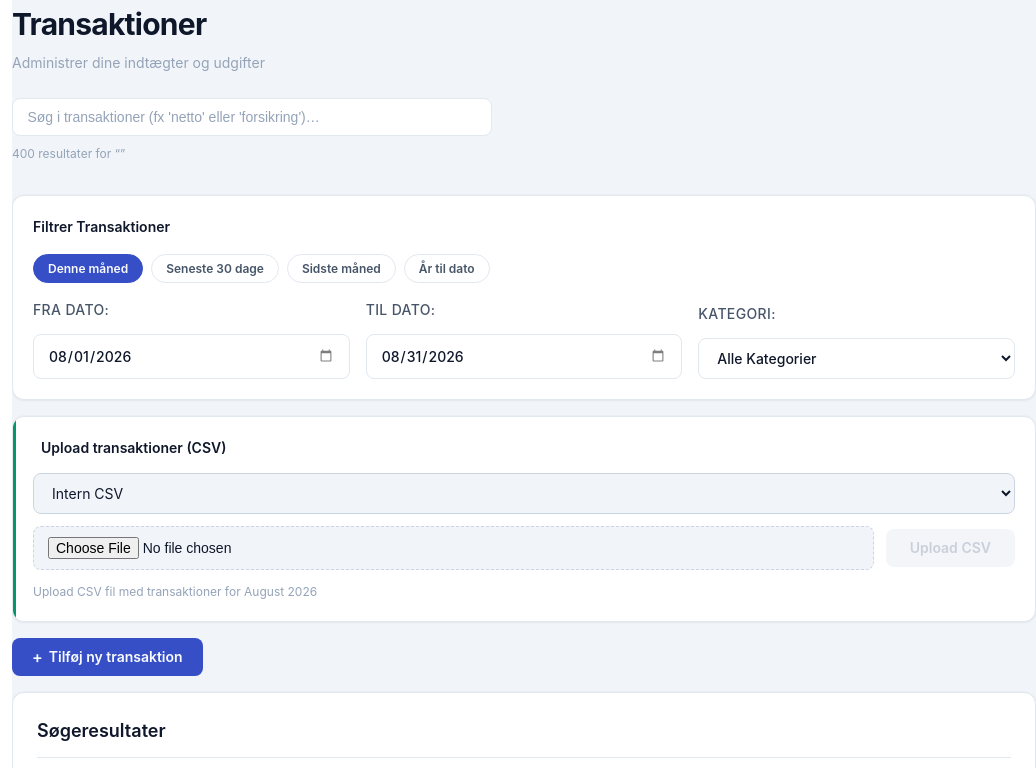
Test: TransactionsPage — søgning › statuslinjen melder kun totalen — intervallet hører i pageren
Type "netto" into the search field at x=252, y=117, box [12, 98, 492, 136]
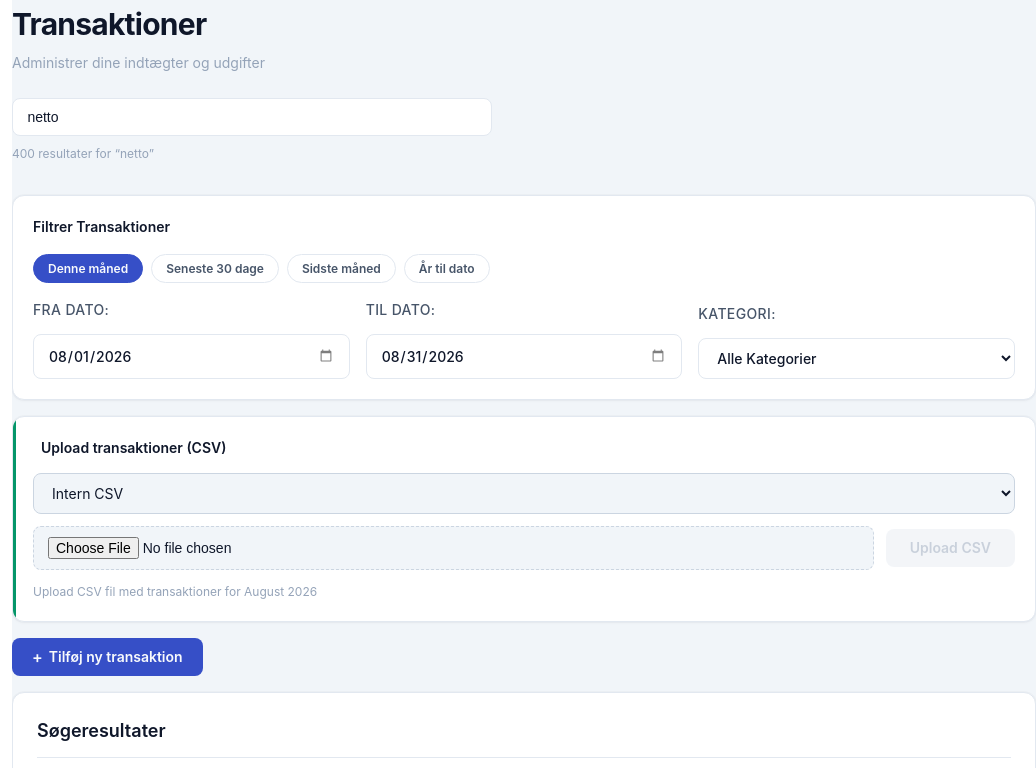
Now the text "400 resultater for “netto”" is shown, box [12, 146, 154, 161]
